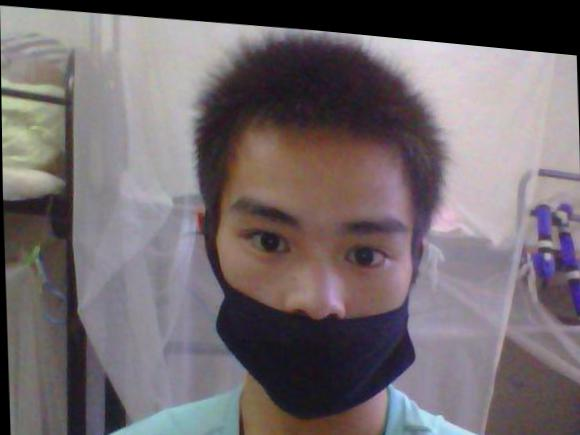WRONG: (211, 164, 420, 407)
